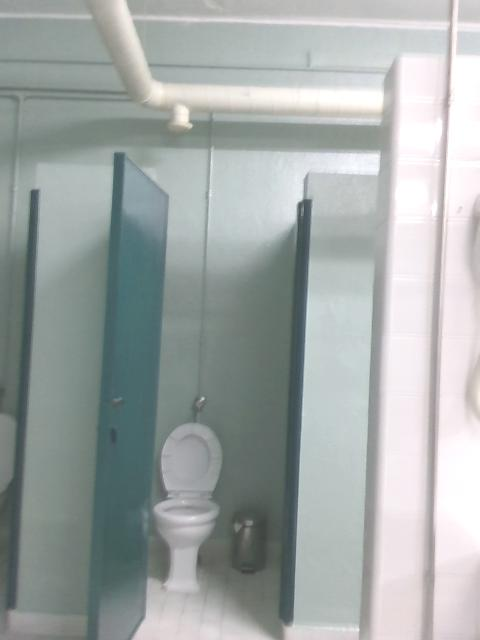open_door: (142, 168, 313, 638)
